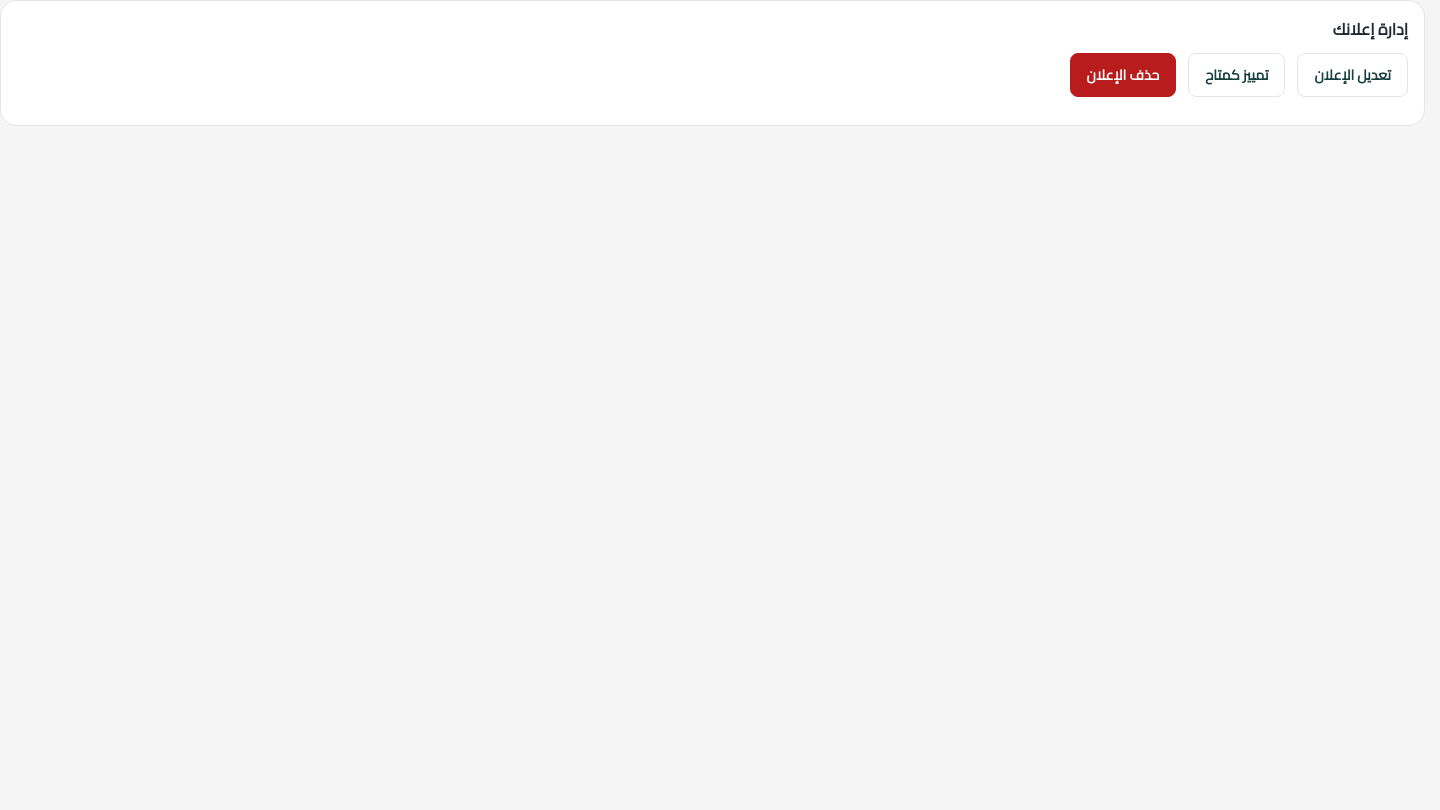
Test: offers marking an unavailable approved property as available
Click the button "تمييز كمتاح" at [1237, 75], box 1188,53 -> 1286,97
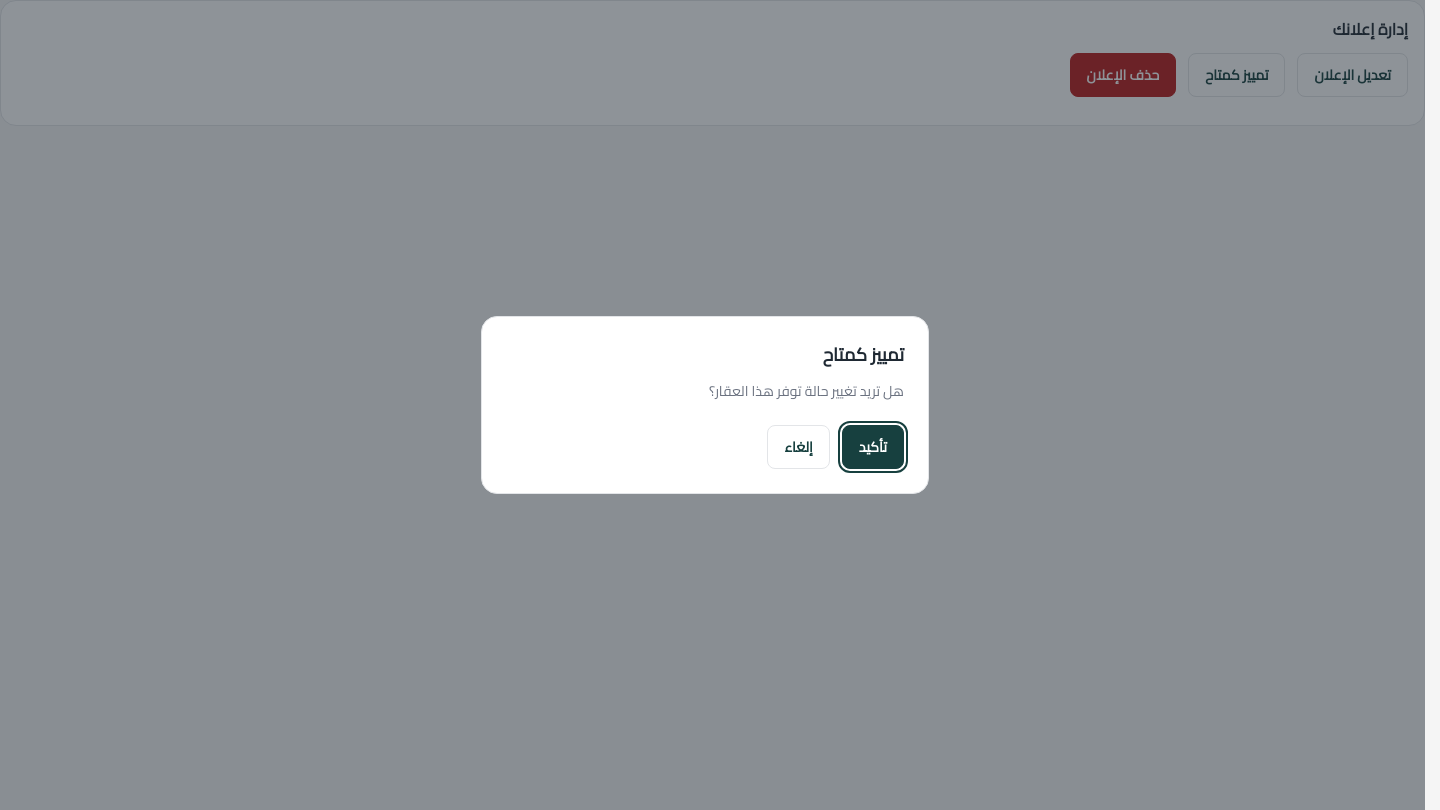
Expected: the dialog "تمييز كمتاح" is shown, 481,316 -> 929,494
